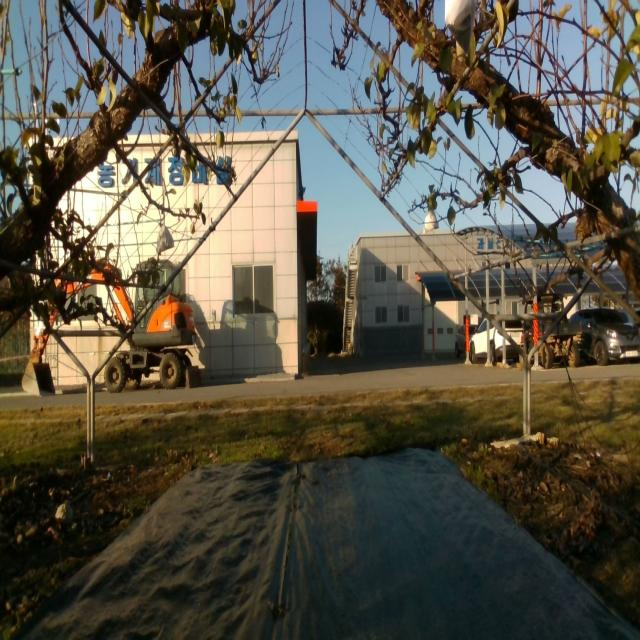pearbags: (444, 0, 477, 55), (156, 225, 174, 253), (422, 209, 438, 234)
